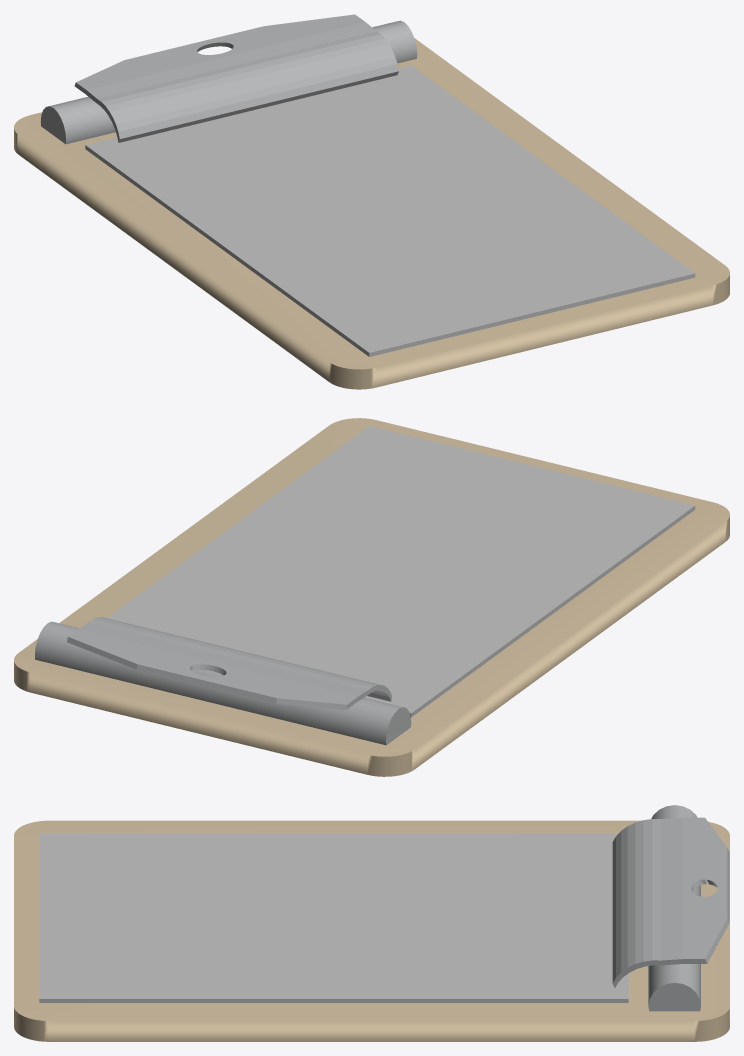
File: clipboard.fbx
3 views of the same model, one above another, from view 1: azimuth 30°, elevation 25°; view 2: azimuth 150°, elevation 25°; view 3: azimuth 270°, elevation 25° (orthographic). The views are drawn at different scales.
Visible parts, largest first — view 1: pCube3; view 2: pCube3; view 3: pCube3.
Part boxes in pixels (x1,y1,x2,y2): pCube3: (14,14,729,389); pCube3: (14,418,729,776); pCube3: (14,805,729,1041).
Size of the model in its own units: 7.63 by 0.9842 by 11.52.
